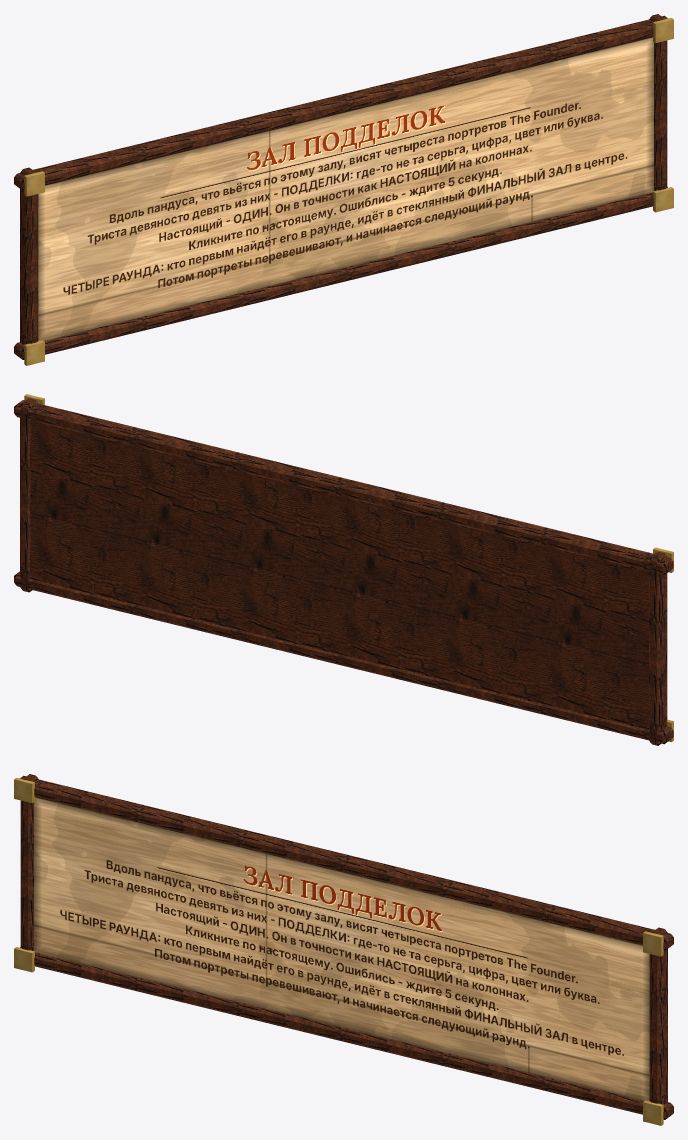
Rendered from sg_ru_hall_rules.glb.
The picture shows the model from 3 angles, top to bottom: view 1: azimuth 30°, elevation 25°; view 2: azimuth 150°, elevation 25°; view 3: azimuth 330°, elevation 25°; orthographic projection.
Visible parts, largest first — view 1: spire; view 2: spire; view 3: spire.
Part boxes in pixels (<box>): spire: <box>14,14,673,365</box>; spire: <box>14,394,673,745</box>; spire: <box>14,774,673,1125</box>.
Size of the model in its own units: 6.36 by 1.75 by 0.19.
3 materials, 3 textured.
